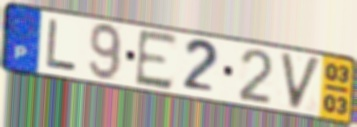2: (180, 38, 223, 101), (237, 47, 275, 106)
9: (86, 21, 124, 84)
E: (133, 27, 180, 93)
L: (44, 17, 79, 75)
V: (278, 50, 325, 113)
